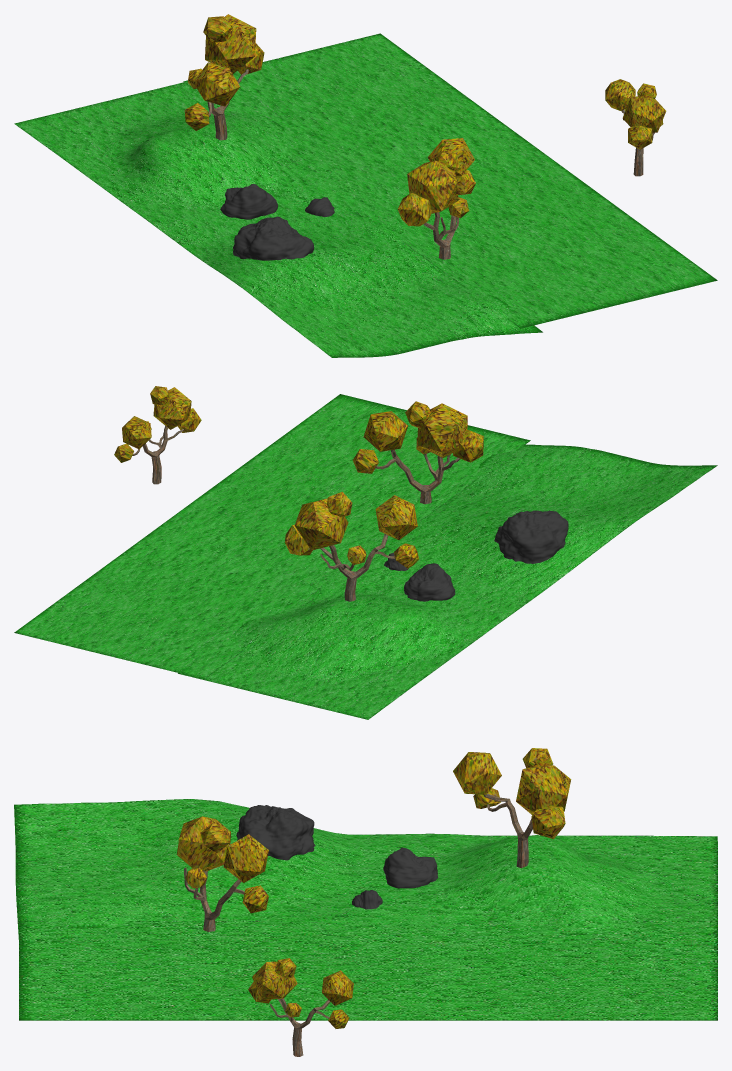
Rendered from sceneplaine.obj.
3 views of the same model, one above another, from view 1: azimuth 30°, elevation 25°; view 2: azimuth 150°, elevation 25°; view 3: azimuth 270°, elevation 25° (orthographic). The views are drawn at different scales.
Parts seen in each view (by area): view 1: Plane, Plane.001, Tree_lp_11.001, Tree_lp_11, Tree_lp_11.002, Landscape.002, Landscape.001; view 2: Plane.001, Plane, Tree_lp_11.001, Tree_lp_11, Tree_lp_11.002, Landscape.002, Landscape.001; view 3: Plane, Plane.001, Tree_lp_11.001, Tree_lp_11, Tree_lp_11.002, Landscape.002, Landscape.001.
Part boxes in pixels (x1,y1,x2,y2): Plane: (183, 33, 717, 328); Plane.001: (14, 82, 542, 357); Tree_lp_11.001: (184, 14, 264, 140); Tree_lp_11: (398, 138, 475, 259); Tree_lp_11.002: (605, 79, 666, 176); Landscape.002: (233, 216, 314, 260); Landscape.001: (220, 184, 277, 219); Plane.001: (178, 444, 717, 719); Plane: (14, 394, 530, 679); Tree_lp_11.001: (284, 491, 419, 601); Tree_lp_11: (352, 401, 483, 504); Tree_lp_11.002: (114, 386, 201, 484); Landscape.002: (494, 510, 568, 563); Landscape.001: (404, 563, 455, 601); Plane: (19, 921, 717, 1020); Plane.001: (14, 799, 717, 939); Tree_lp_11.001: (453, 748, 571, 868); Tree_lp_11: (176, 816, 268, 931); Tree_lp_11.002: (248, 958, 353, 1056); Landscape.002: (236, 805, 315, 860); Landscape.001: (383, 847, 438, 888).
Bounding box in the file's own units: 47.62 × 15.94 × 60.09.
Materials: 4 (3 with a texture image).
